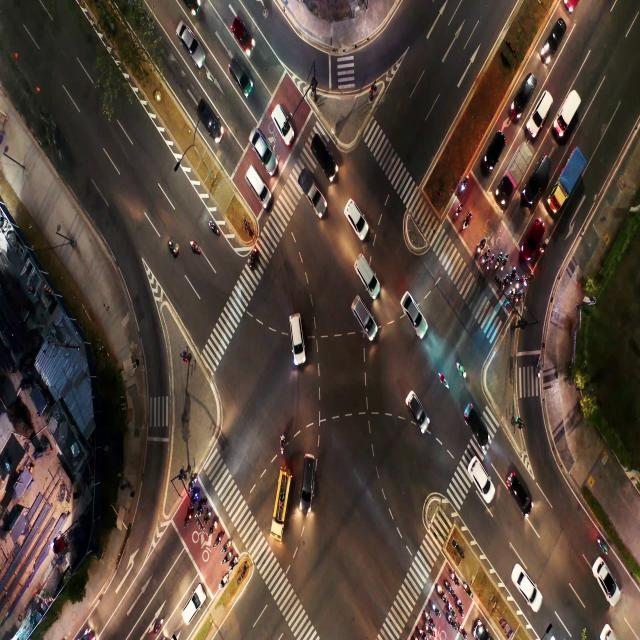bus: (268, 479, 288, 518)
car: (516, 566, 538, 612), (300, 451, 318, 504), (244, 162, 265, 196), (467, 467, 489, 498), (546, 24, 566, 58), (290, 315, 305, 360), (182, 587, 200, 623), (351, 298, 370, 332), (347, 200, 364, 236), (512, 478, 530, 512), (598, 560, 614, 598), (533, 160, 551, 193), (487, 134, 503, 168), (178, 26, 196, 56), (469, 406, 487, 436), (318, 146, 334, 178), (234, 62, 252, 90), (403, 300, 422, 326), (512, 79, 526, 114), (203, 98, 215, 138), (255, 135, 270, 167), (360, 257, 374, 290), (528, 232, 544, 260), (278, 113, 290, 144), (408, 398, 422, 422), (533, 103, 545, 127), (237, 18, 250, 37)
motorcycle: (459, 179, 472, 192), (454, 203, 463, 219), (456, 362, 466, 376), (462, 216, 472, 230), (248, 250, 256, 266), (437, 586, 446, 600), (463, 580, 471, 595), (438, 373, 447, 386), (477, 239, 484, 255), (190, 240, 200, 251), (442, 580, 451, 592), (170, 241, 178, 254), (525, 274, 532, 288), (430, 602, 438, 614), (215, 534, 222, 546), (542, 241, 548, 255), (508, 290, 515, 302), (188, 478, 196, 488), (482, 249, 488, 262), (496, 257, 502, 270), (500, 259, 506, 272), (279, 438, 285, 450), (196, 501, 202, 513), (510, 266, 514, 284), (449, 616, 455, 628), (516, 292, 521, 306), (458, 597, 463, 611), (427, 626, 434, 636), (210, 521, 216, 532), (222, 552, 228, 563), (212, 222, 218, 233), (448, 603, 454, 614), (186, 512, 192, 522), (452, 573, 458, 583), (461, 624, 466, 636), (204, 510, 208, 523), (488, 258, 492, 271), (192, 491, 197, 501), (502, 276, 506, 288), (424, 612, 430, 620), (418, 626, 424, 634), (516, 277, 520, 288), (228, 561, 234, 567), (224, 542, 228, 550), (221, 577, 225, 585)
truck: (506, 150, 522, 194), (298, 175, 320, 203), (562, 160, 574, 192), (562, 97, 574, 125)
